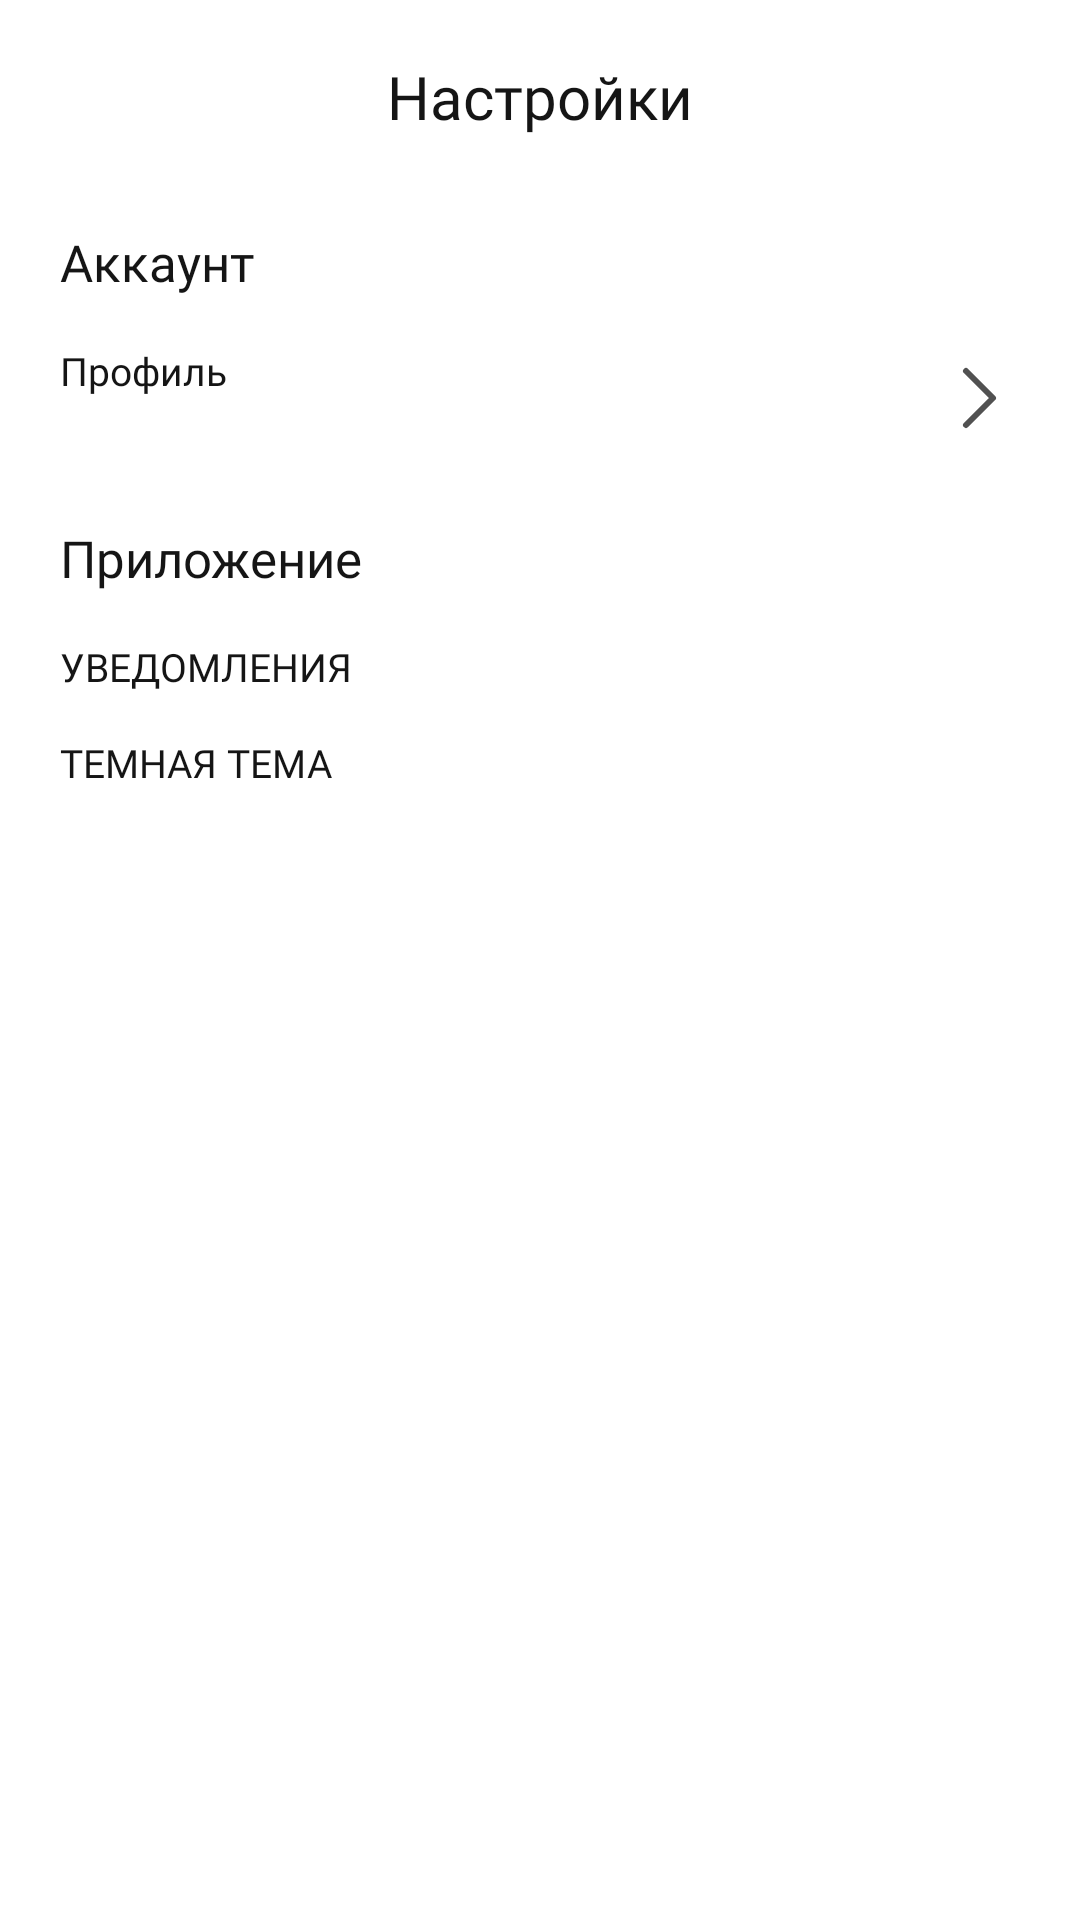

Locate icon controls on the screen. Image size 1080 × 1920, boxes as (x1, y1, x2, y2).
chevron right: (963, 368, 996, 428)
